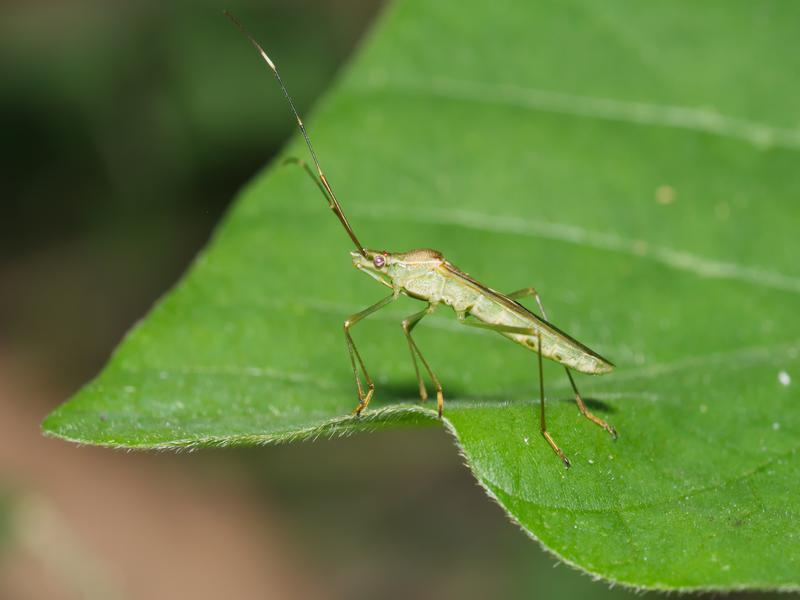Rice_earhead_bug: (277, 190, 636, 419)
